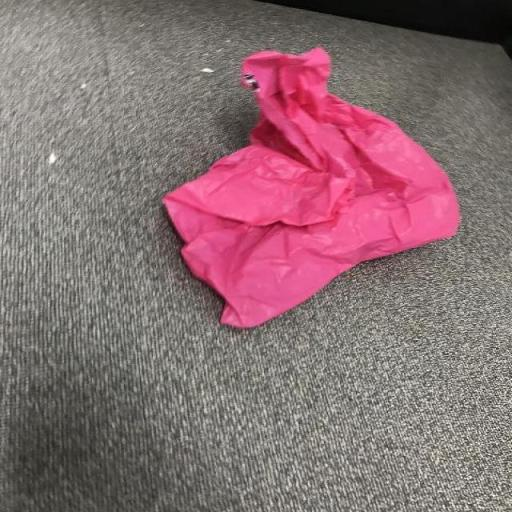plastic-bag: (154, 43, 468, 333)
